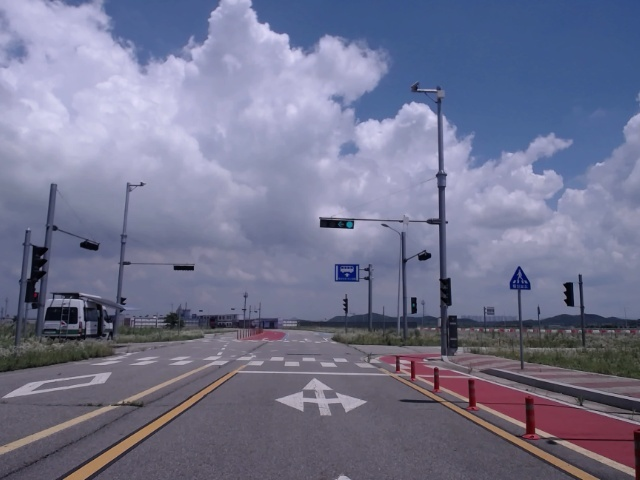all_green_4: (320, 216, 357, 229)
